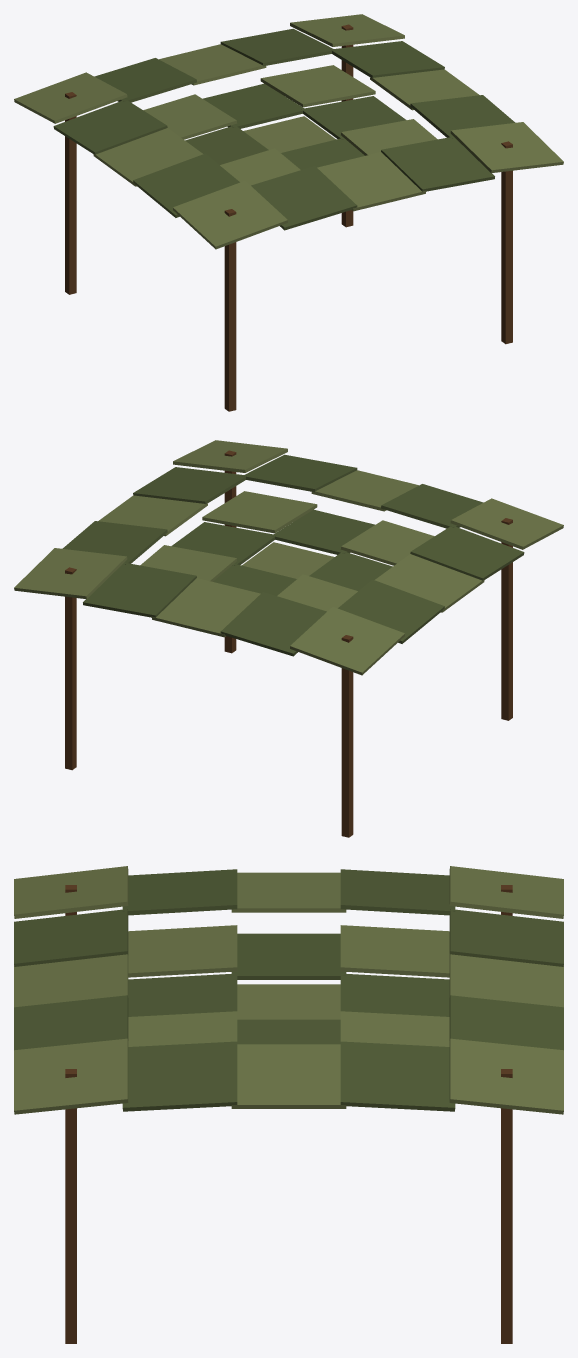
File: camo_net.glb
3 views of the same model, one above another, from view 1: azimuth 30°, elevation 25°; view 2: azimuth 150°, elevation 25°; view 3: azimuth 270°, elevation 25° (orthographic). The views are drawn at different scales.
Parts seen in each view (by area): view 1: camo_net; view 2: camo_net; view 3: camo_net.
Part boxes in pixels (bbox=[...]): camo_net: bbox=[14, 14, 563, 411]; camo_net: bbox=[14, 440, 563, 837]; camo_net: bbox=[14, 866, 563, 1343].
Bounding box in the file's own units: 4.81 × 2.69 × 4.8.
